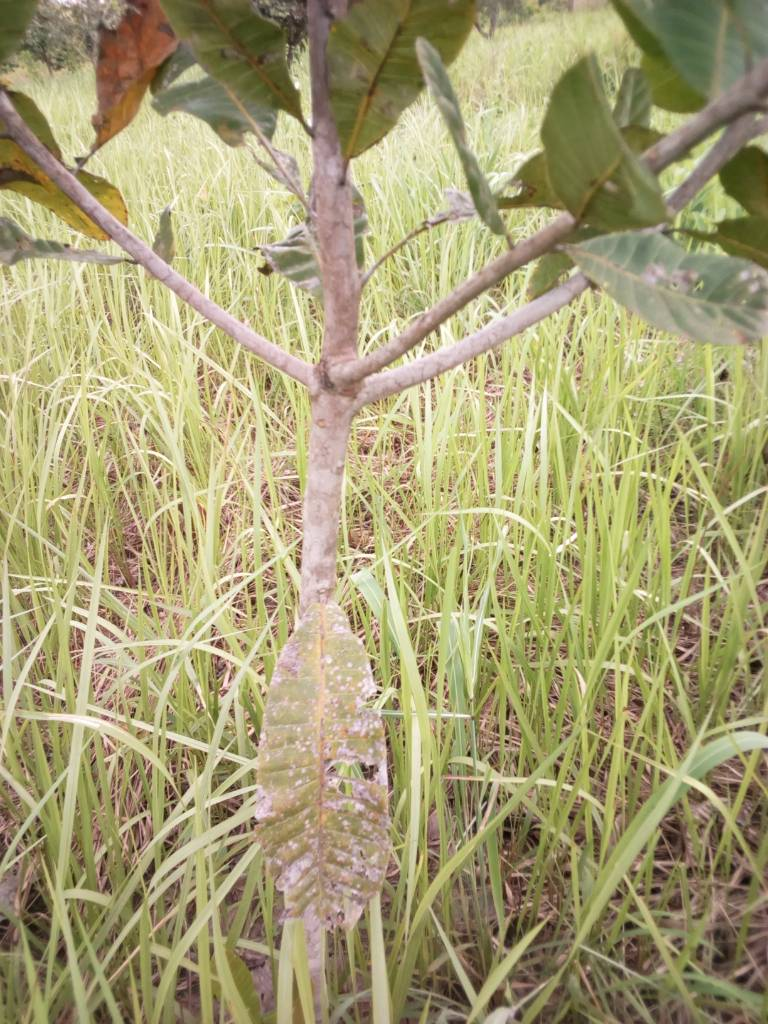Bactériose: (329, 1, 474, 172), (563, 232, 768, 341)
